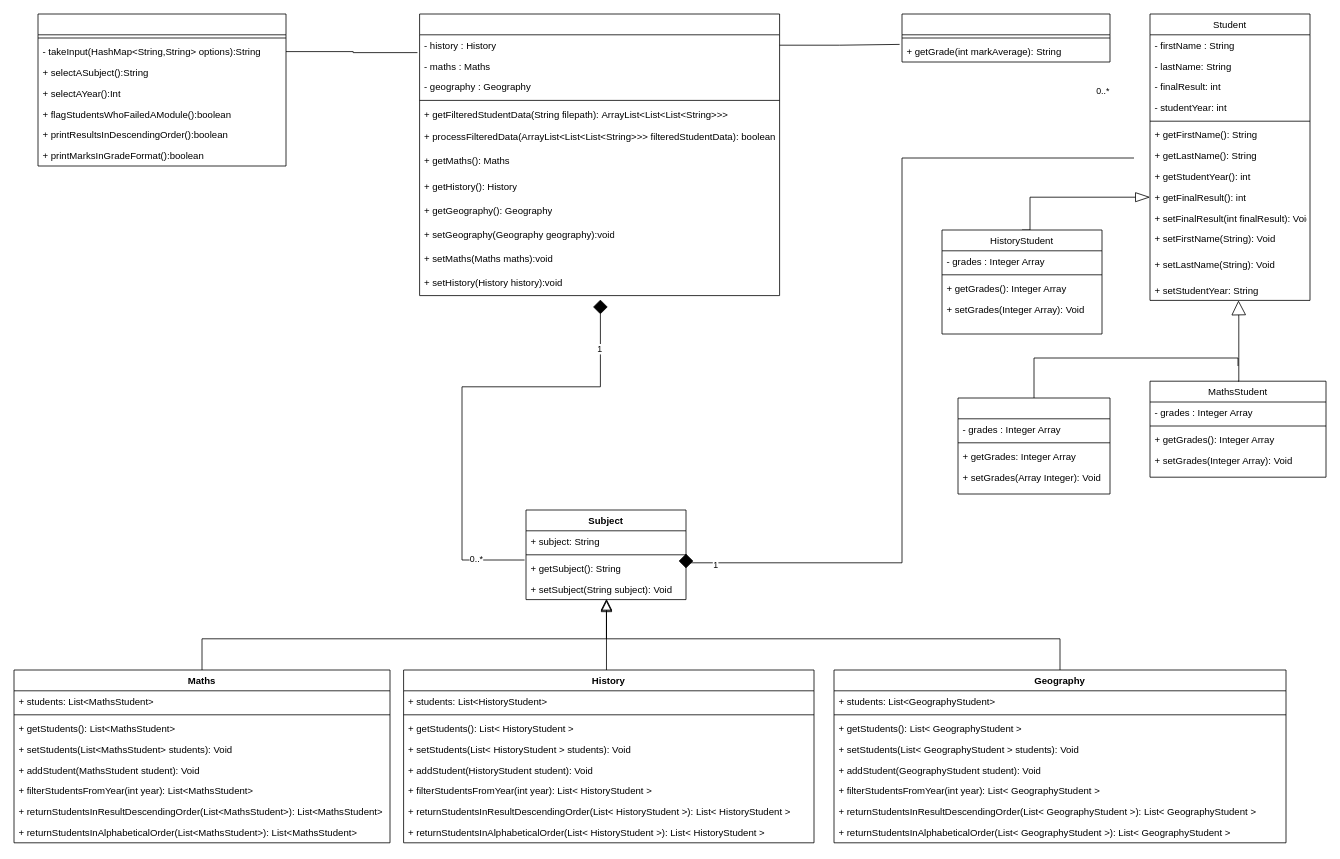
Some shapes in this 1340 by 859 pixel diagram are drawn without their labels. The shapes that lost their labels are listed below. From the top down, each one's box as (x1, y1, x2, y2) in pixels, then its label:
(901, 13, 1110, 62): Enums
(37, 13, 286, 166): GuiController
(419, 13, 780, 296): DataProcessor
(957, 397, 1110, 494): GeographyStudent
